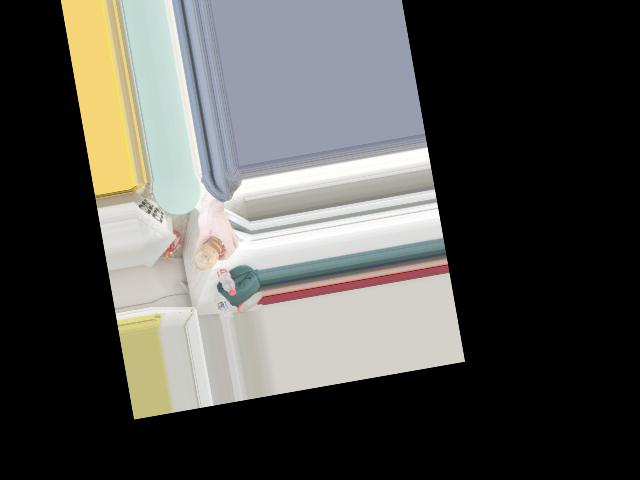sweet_potato: (191, 233, 225, 270)
